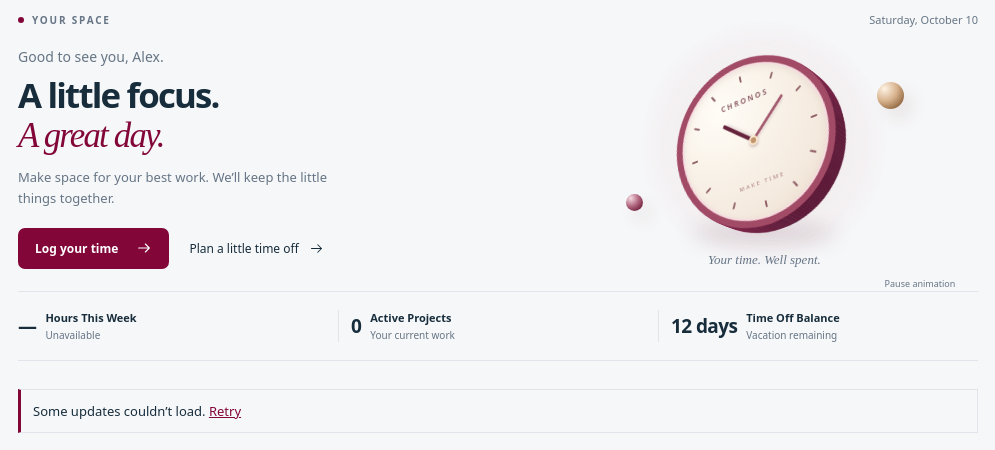
Scenario: keeps successful sections usable after failure and retries without showing a false all-clear
Expected: the message "Some updates couldn’t load. Retry" is shown, top-left (18, 389), bottom-right (978, 433)
Expected: the message shows "Some updates couldn’t load", top-left (33, 402), bottom-right (209, 420)
Click the button "Retry".
click(225, 411)  # box top-left (209, 402), bottom-right (241, 420)
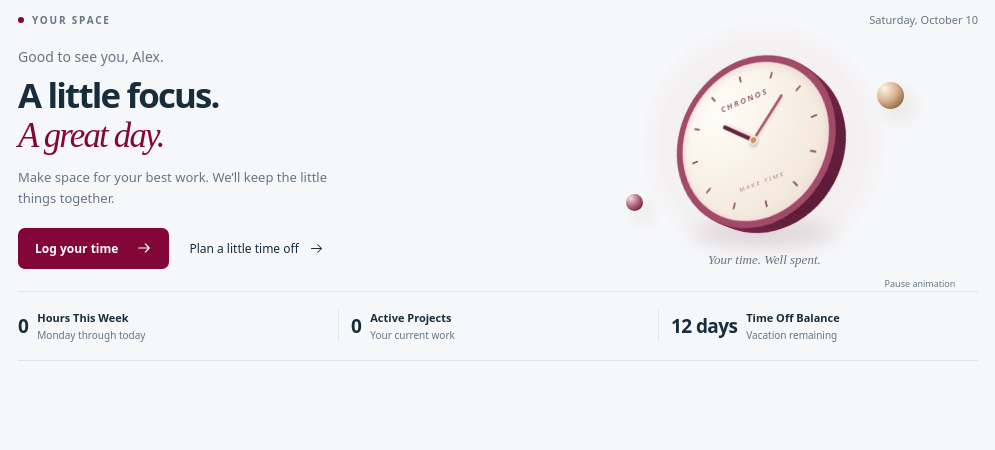
Expected: the message "Some updates couldn’t load. Retry" is gone
